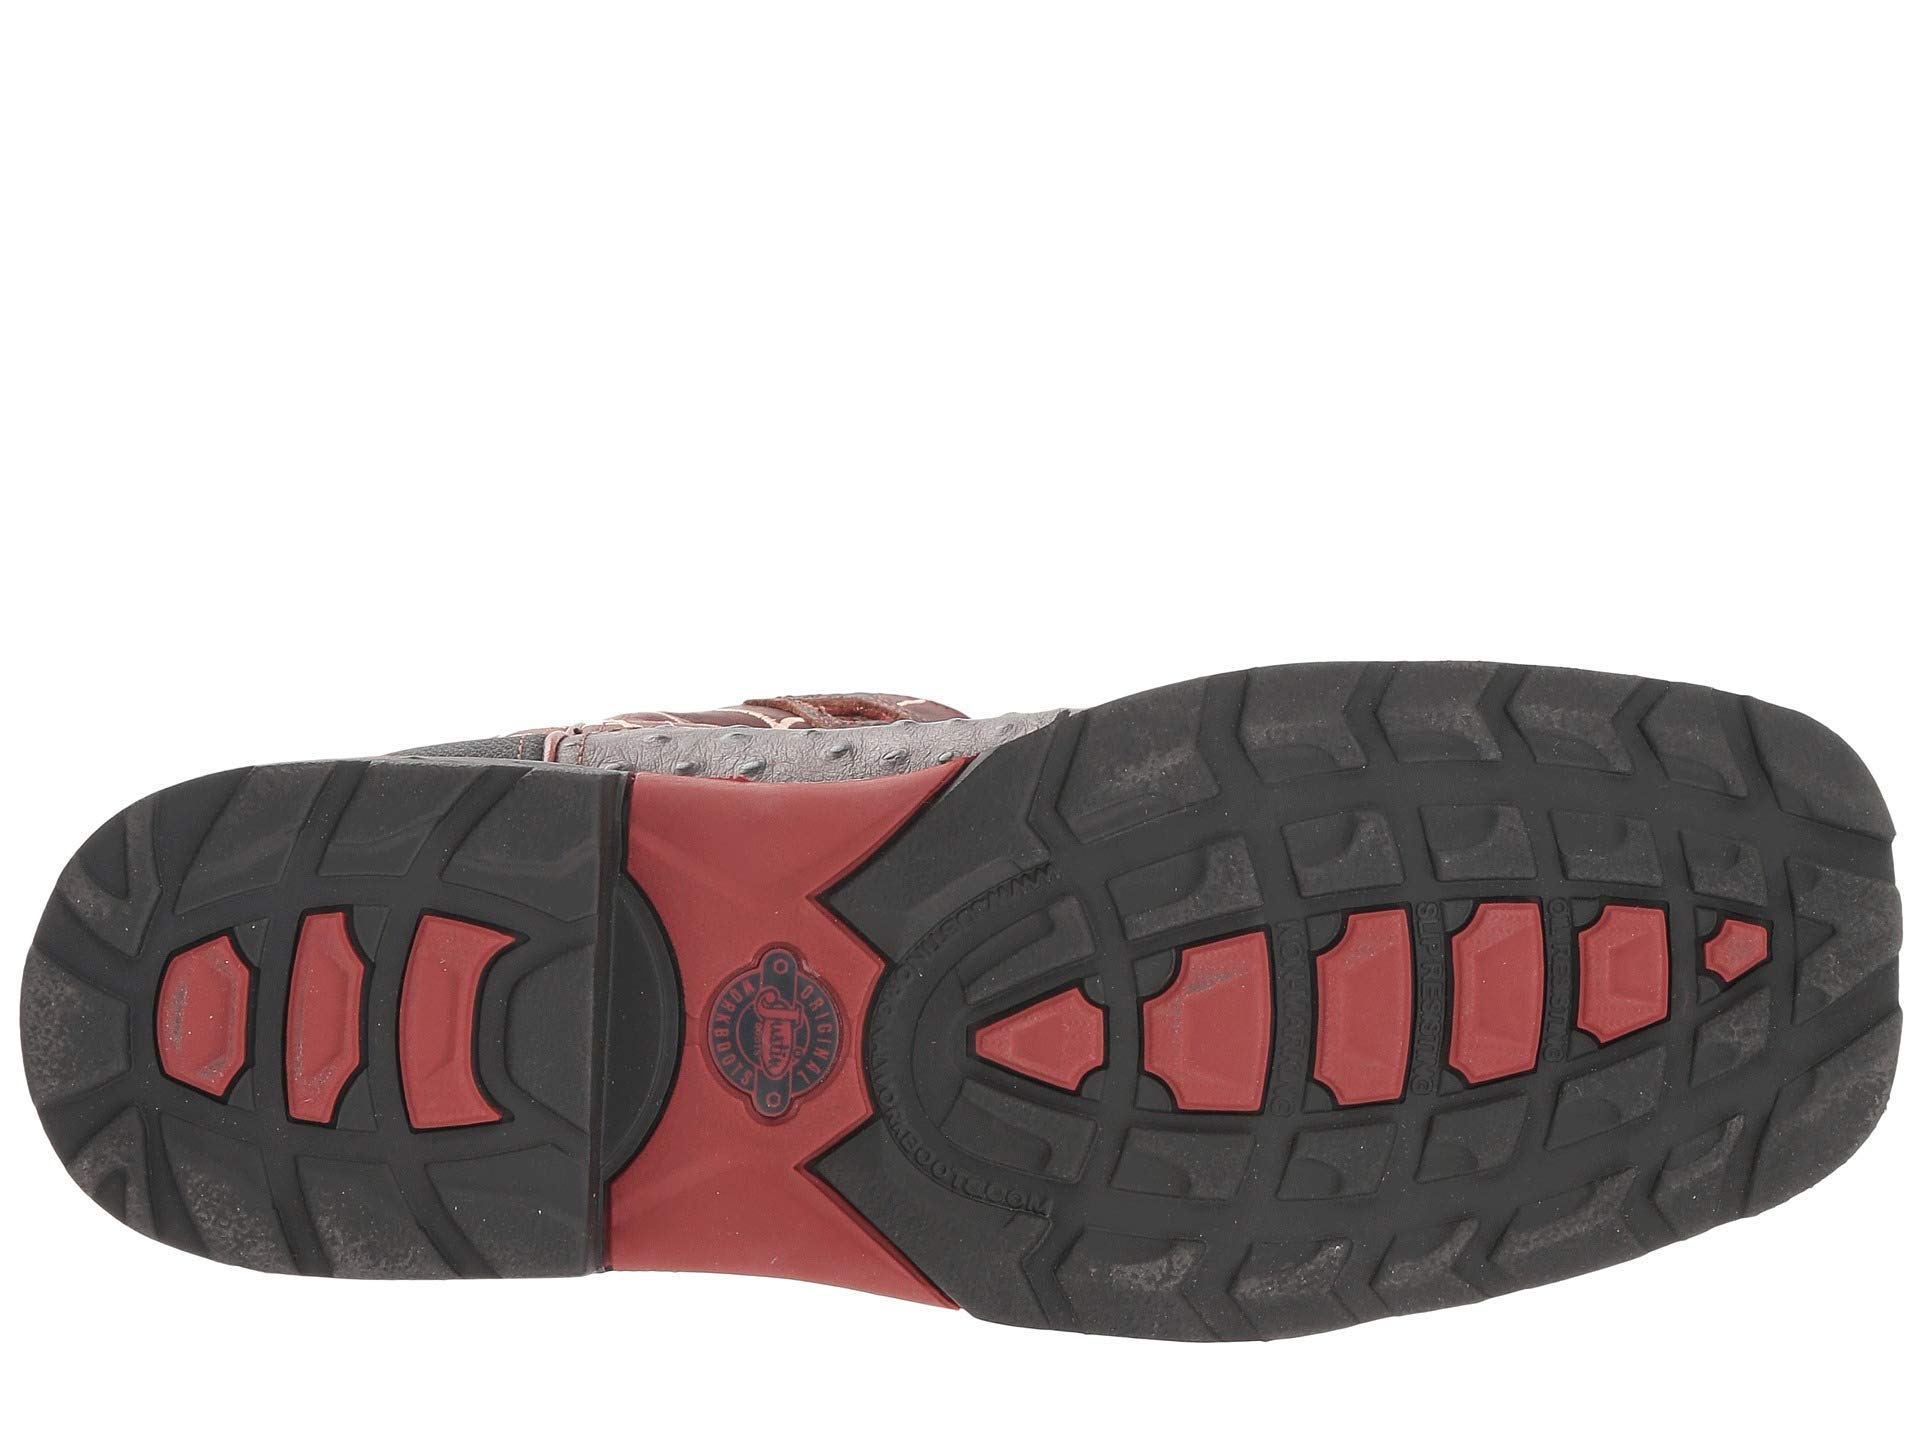circle: (983, 1175, 1076, 1230)
exclude: (590, 762, 971, 1324)
quad: (1104, 824, 1779, 1203)
text: (983, 1175, 1076, 1230)
triangle: (1104, 824, 1779, 1203)
